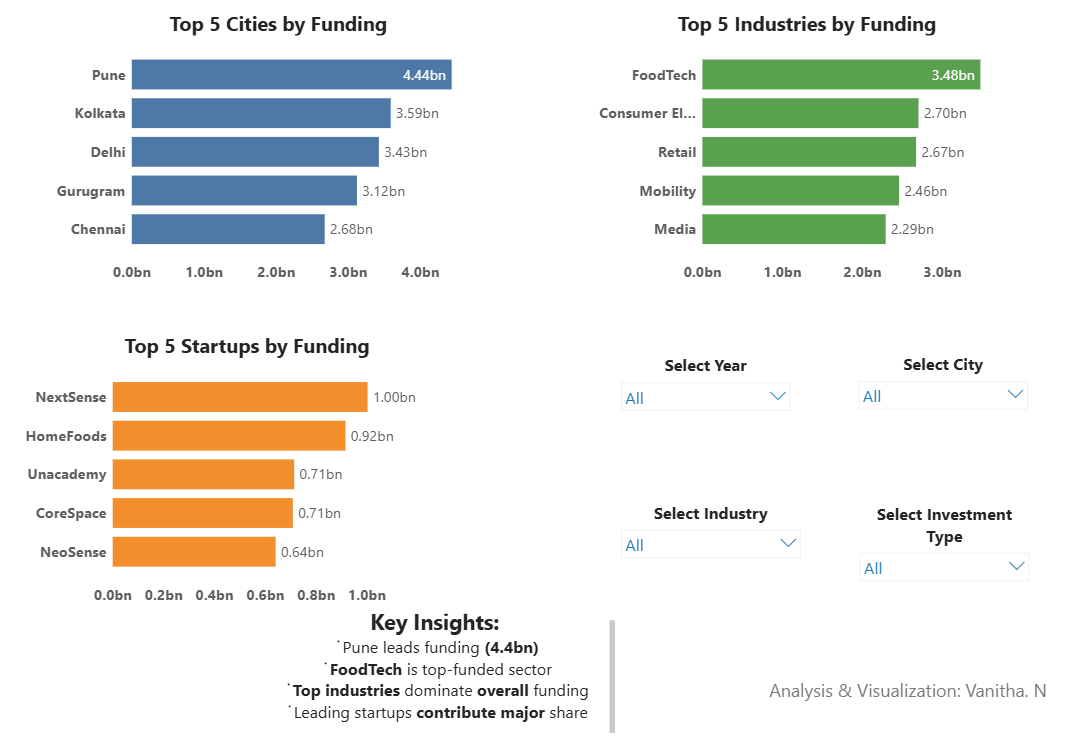

The page's visual inventory and layout, read from the dashboard file:
{"tool":"powerbi","page":{"name":"Page 2","canvas":[1600,1200],"ordinal":1},"visuals":[{"type":"clusteredBarChart","title":"Top 5 Cities by Funding","fields":{"Category":["FullDataset.City"],"Y":["FullDataset.Total Funding"]},"box":[66.7,25.9,700,450],"z":0},{"type":"clusteredBarChart","title":"Top 5 Industries by Funding","fields":{"Category":["FullDataset.Industry"],"Y":["FullDataset.Total Funding"]},"box":[850,25.9,700,450],"z":1000},{"type":"clusteredBarChart","title":"Top 5 Startups by Funding","fields":{"Category":["FullDataset.Startup"],"Y":["FullDataset.Total Funding"]},"box":[20.3,503.4,700,450],"z":2000},{"type":"slicer","title":"Select Year","fields":{"Values":["FullDataset.Year"]},"box":[900,536.7,300,180],"z":3000},{"type":"slicer","title":"Select City","fields":{"Values":["FullDataset.City"]},"box":[1252.5,535.6,300,180],"z":4000},{"type":"slicer","title":"Select Industry","fields":{"Values":["FullDataset.Industry"]},"box":[900,755.9,300,180],"z":5000},{"type":"slicer","title":"Select Investment Type","fields":{"Values":["FullDataset.InvestmentType"]},"box":[1253.3,756.7,300,180],"z":6000},{"type":"textbox","box":[385.2,937,450,183.3],"z":7001},{"type":"textbox","box":[1138.9,1031.5,431.5,48.1],"z":7002}]}

Visuals, with their boxes on the page's 1600x1200 design canvas (x1, y1, x2, y2). These are canvas units, not pixel positions in the 1072x738 screenshot, which may show the page scaled, cropped or inside an application window:
"Top 5 Cities by Funding" clusteredBarChart: (67,26,767,476)
"Top 5 Industries by Funding" clusteredBarChart: (850,26,1550,476)
"Top 5 Startups by Funding" clusteredBarChart: (20,503,720,953)
"Select Year" slicer: (900,537,1200,717)
"Select City" slicer: (1252,536,1552,716)
"Select Industry" slicer: (900,756,1200,936)
"Select Investment Type" slicer: (1253,757,1553,937)
textbox: (385,937,835,1120)
textbox: (1139,1032,1570,1080)
